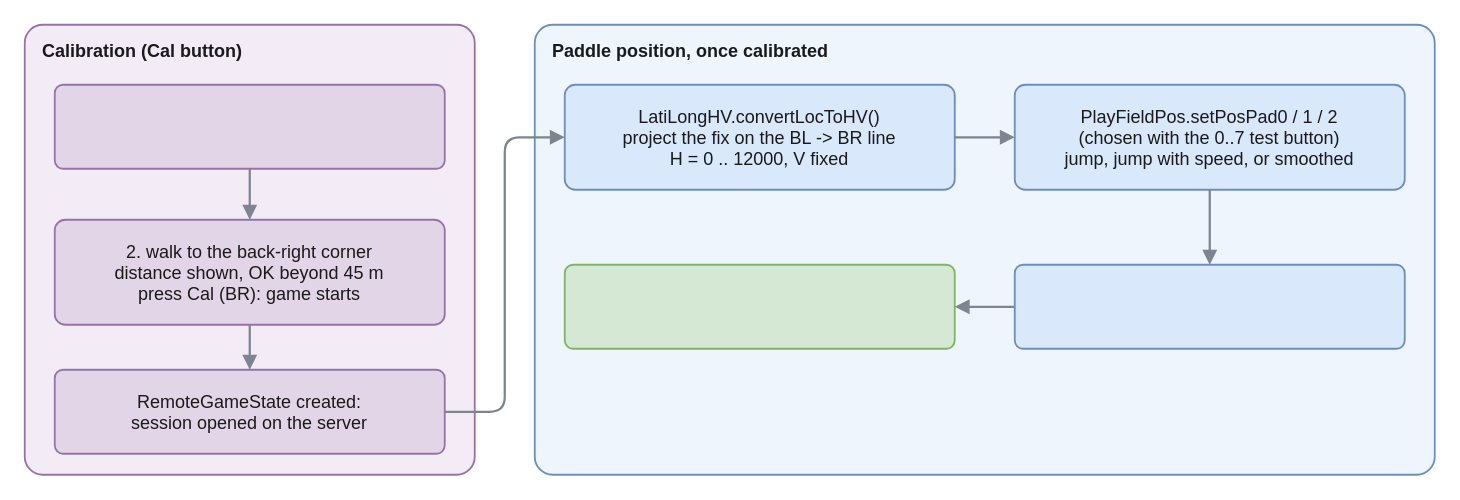
Some shapes in this 1460 by 500 pixel diagram are drawn without their labels. The shapes that lost their labels are listed below. From the top down, each one's box as (x1, y1, x2, y2) in pixels, then its label:
(53, 83, 445, 169): 1. stand on the back-left corner press Cal (BL)
(563, 263, 955, 349): sent to the server (UDP 9476) and drawn on the SurfaceView
(1013, 263, 1405, 349): every 125 ms: extrapolateLocal() position + speed x elapsed time
